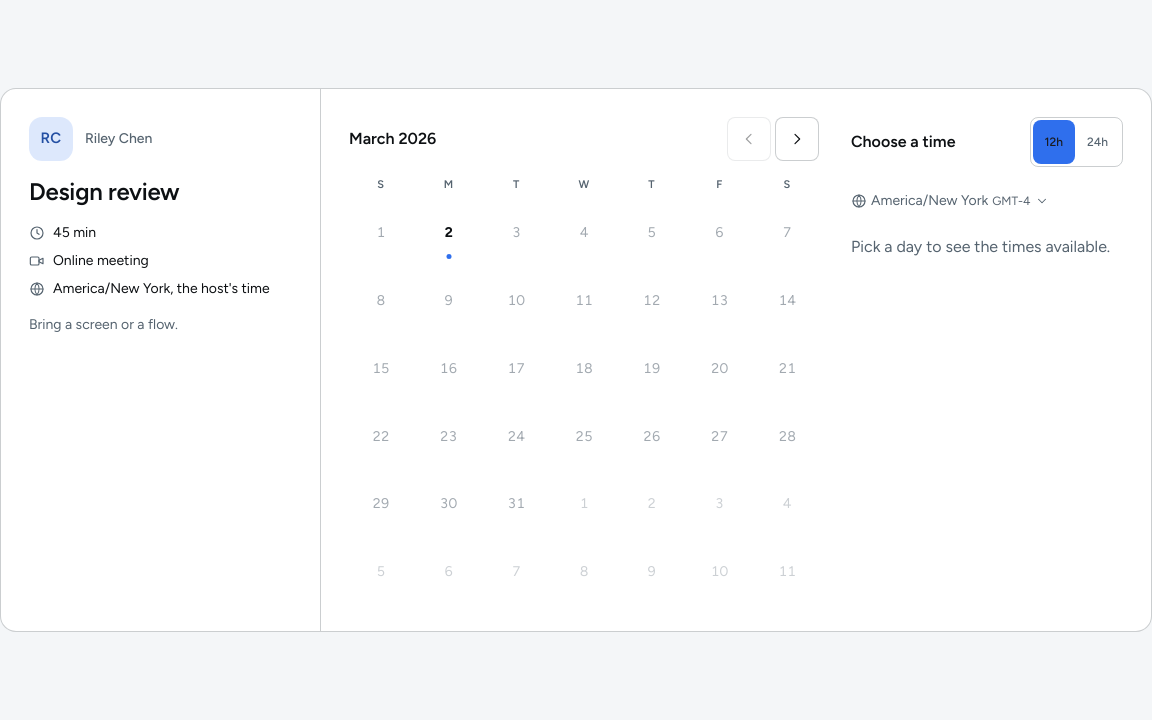
Test: a month that cannot be read is never shown as a month with no times › an empty visible month and a failed next month keep the calendar, never the unavailable sentence
The width and height of the screenshot is (1152, 720).
What coordinates should you click on to do the following:
click the button named "Next month"
I would click on:
 (797, 139)
Its box is [775,117,819,161].
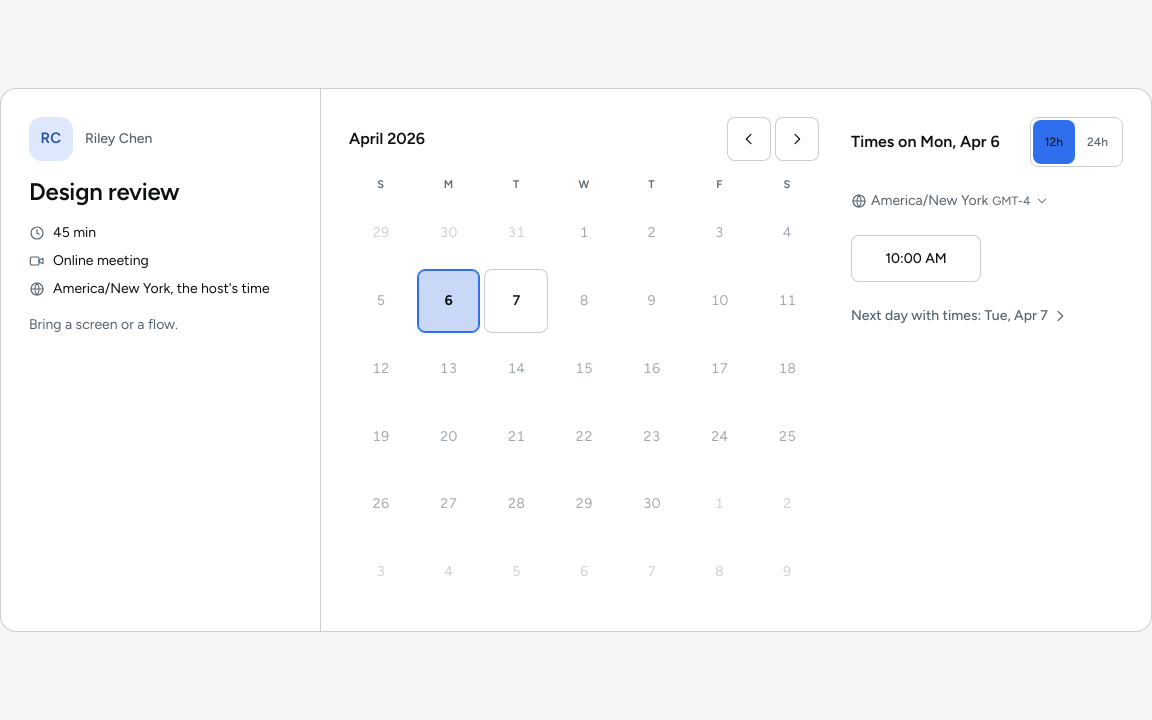
Check: the heading "April 2026" is shown, box [349,127,425,151]
